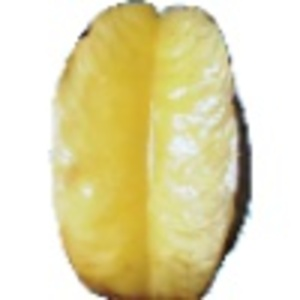carambola: (50, 1, 254, 300)
